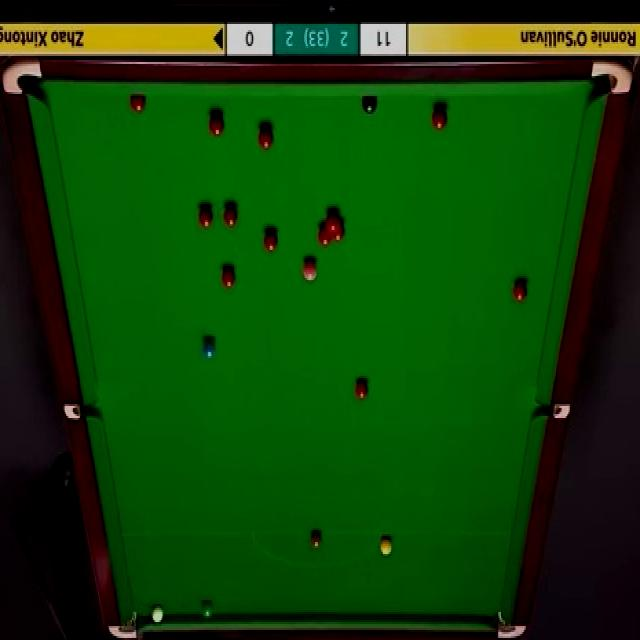black-ball: (360, 94, 378, 115)
blue-ball: (203, 337, 217, 362)
brown-ball: (310, 532, 322, 552)
green-ball: (201, 600, 214, 618)
pink-ball: (301, 256, 318, 281)
red-ball: (264, 229, 282, 255), (432, 105, 449, 132), (208, 110, 225, 136), (220, 265, 236, 291), (258, 124, 274, 150), (222, 202, 238, 228), (198, 204, 214, 228), (514, 280, 528, 305), (332, 218, 346, 242), (356, 376, 368, 403), (318, 222, 331, 246), (129, 97, 147, 114), (324, 210, 340, 229)
white-ball: (151, 603, 163, 624)
yellow-ball: (381, 538, 393, 554)
